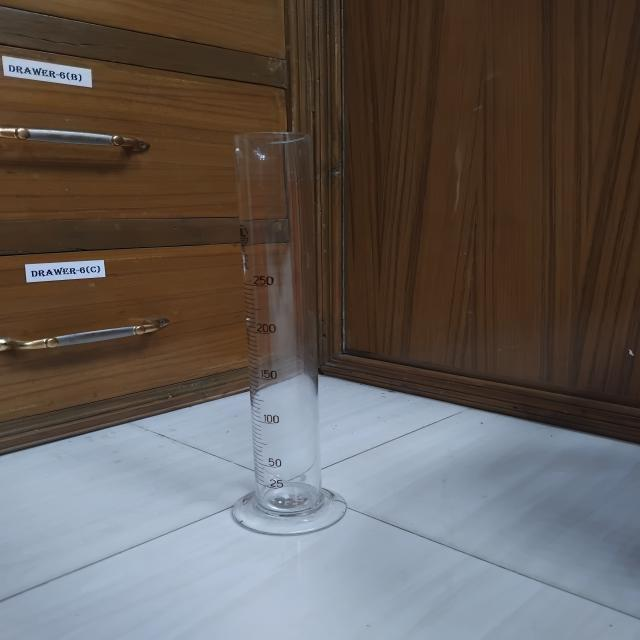Measuring_Cylinder: (186, 87, 382, 558)
